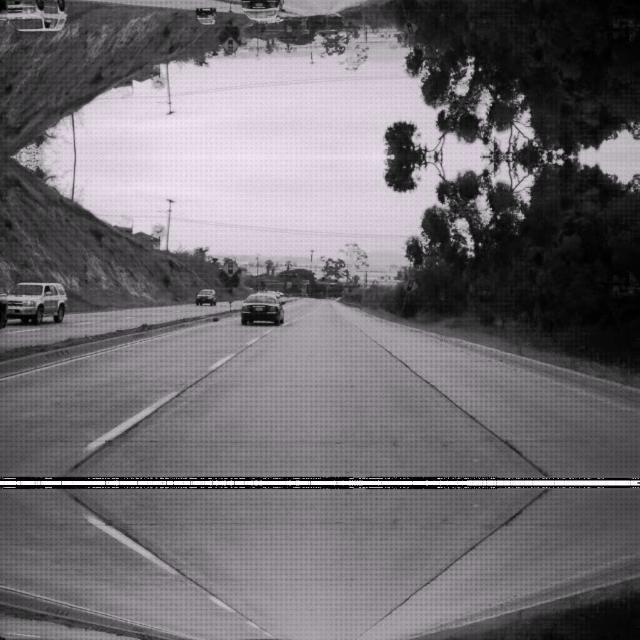signalAhead: (220, 256, 240, 276), (220, 36, 240, 56), (401, 274, 419, 292), (401, 20, 419, 38)
